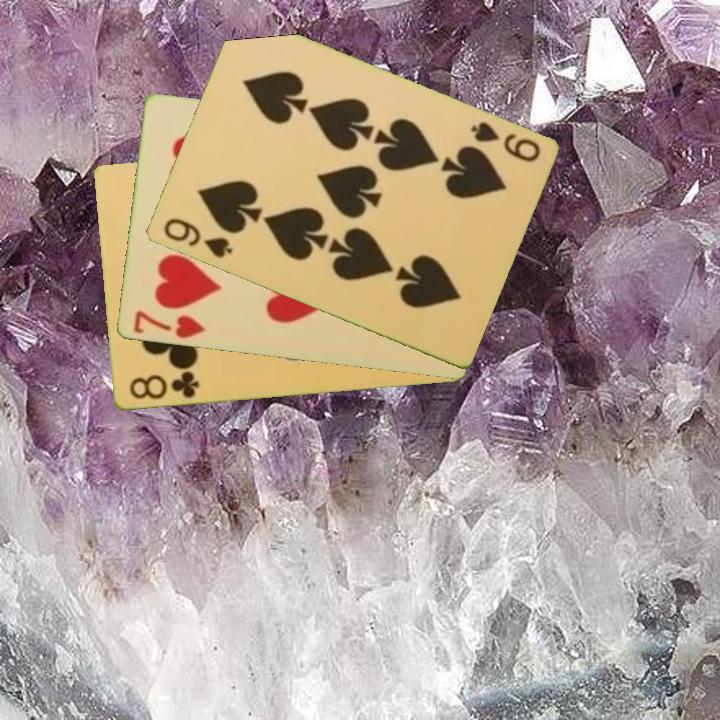7h: (129, 307, 207, 342)
8c: (125, 368, 202, 403)
9s: (159, 214, 235, 262), (466, 118, 543, 165)
